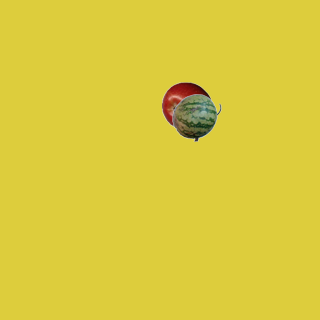Apple Braeburn: (161, 81, 211, 131)
Watermelon: (171, 92, 221, 142)
